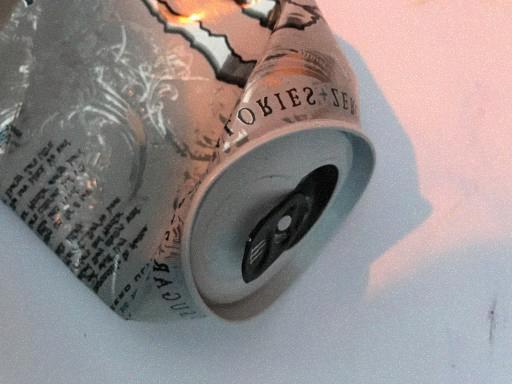metal: (0, 4, 379, 324)
